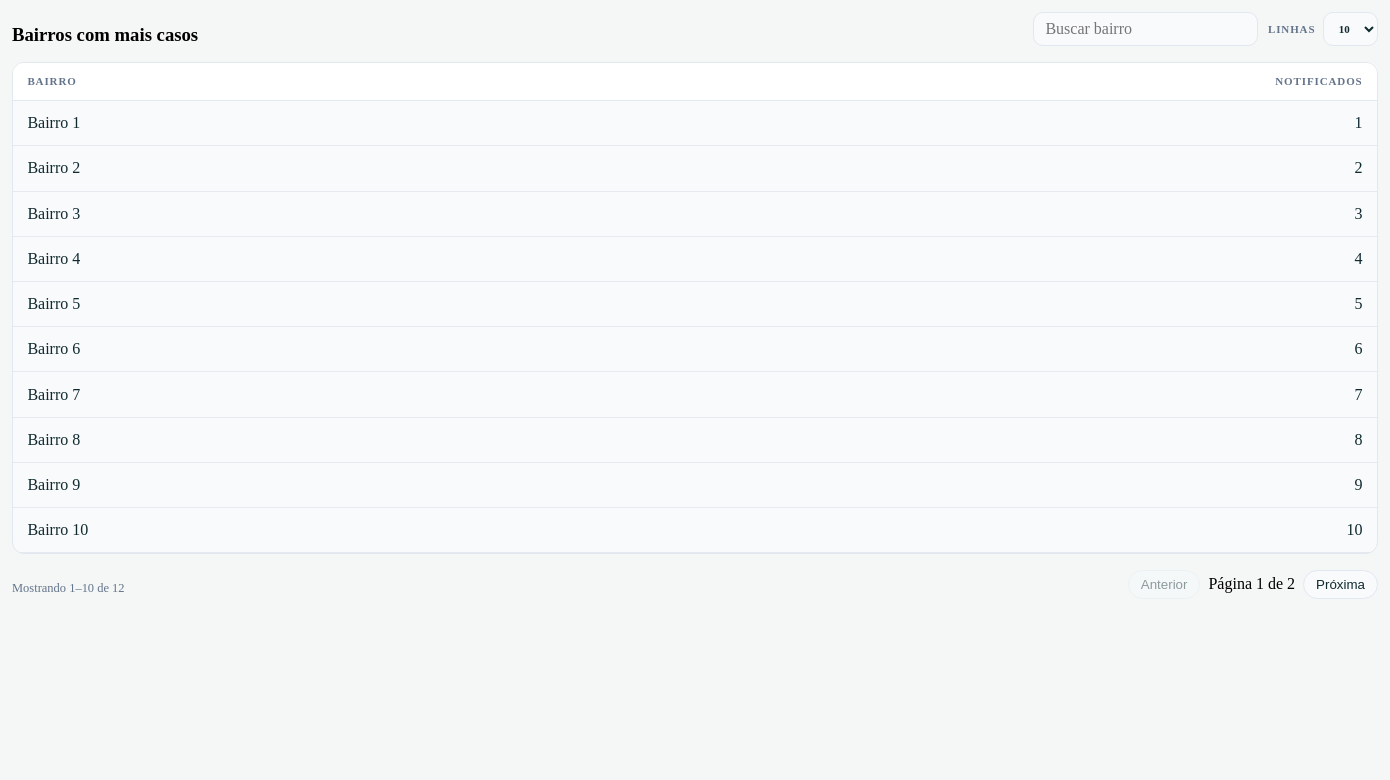
Test: RankTable › filters rows by search and paginates top 10
The width and height of the screenshot is (1390, 780).
Expected: the text "Bairro 1" is shown, [13,101,607,146]
Expected: the text "Bairro 11" is not shown
In the field with placeholder "Buscar bairro": {"x": 1145, "y": 29} [1033,12,1258,46], type "11"
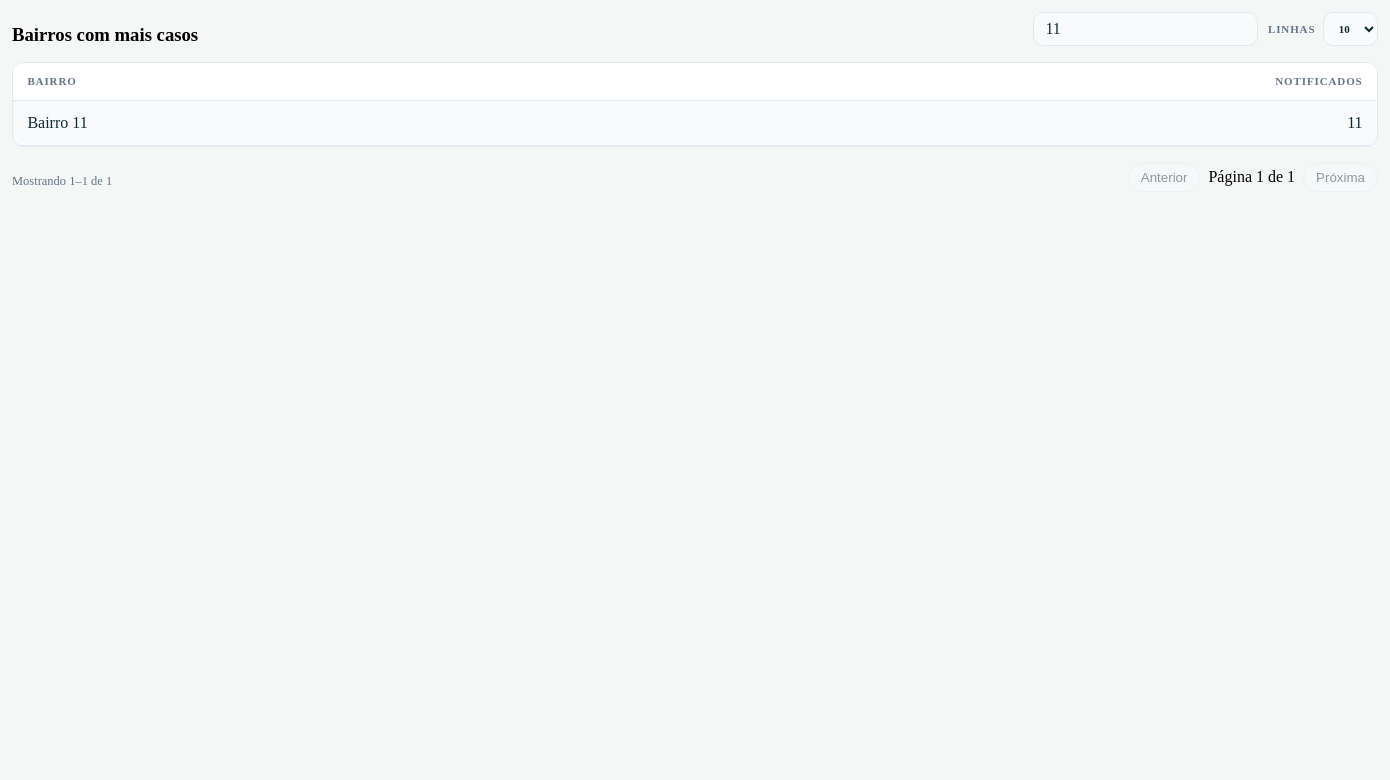
Now the text "Bairro 11" is shown, box [13,101,605,146]
Now the text "Página 1 de 1" is shown, box [1208,168,1295,186]
